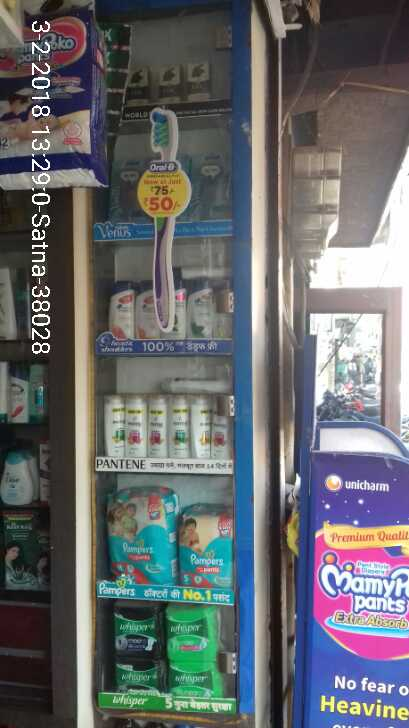venus: (194, 154, 225, 221), (109, 157, 137, 219)
